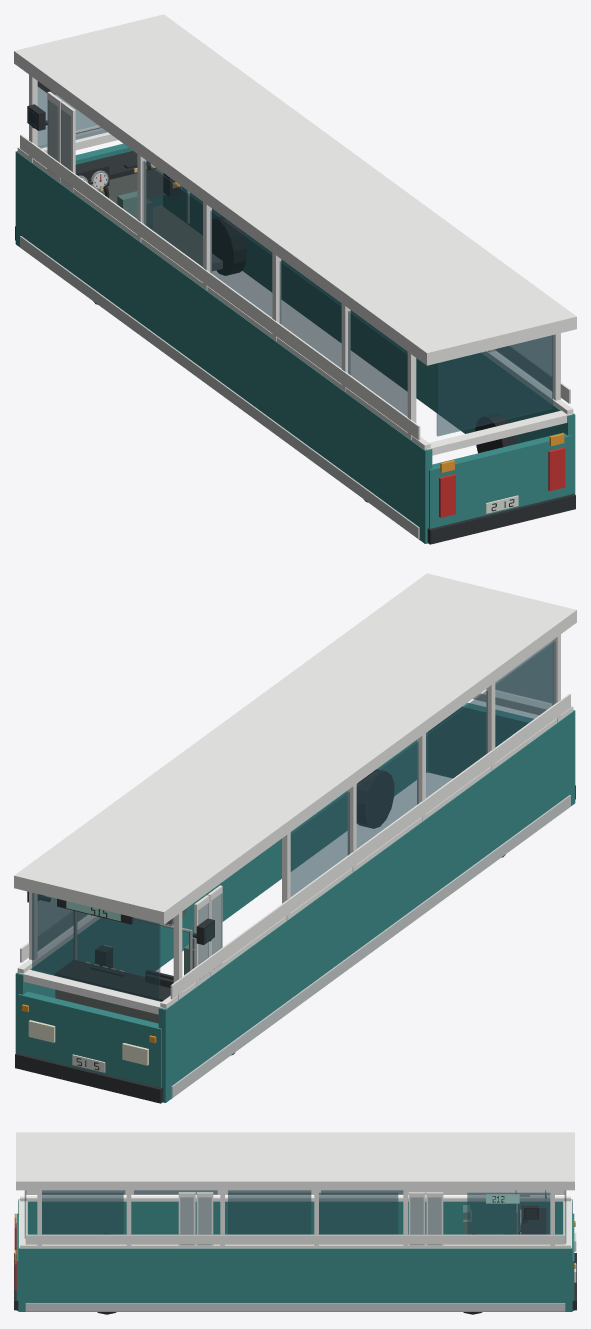
The model's file is bus_almaty_212_turquoise.glb.
3 views of the same model, one above another, from view 1: azimuth 30°, elevation 25°; view 2: azimuth 150°, elevation 25°; view 3: azimuth 270°, elevation 25° (orthographic). The views are drawn at different scales.
Visible parts, largest first — view 1: body_roof, body_lower_left, body_lower_right, window_rear, body_rear_lower, livery_side_window_band_left, livery_side_sill_left, window_side_left_2, window_side_left_1, window_side_left_3, window_side_left_0, bumper_rear (+17 smaller); view 2: body_roof, body_lower_left, body_lower_right, window_windshield, body_front_lower, livery_side_window_band_left, livery_side_sill_left, body_rear_lower, window_side_left_2, window_side_left_1, window_side_left_0, window_side_left_3 (+15 smaller); view 3: body_roof, body_lower_right, body_lower_left, livery_side_window_band_right, livery_side_sill_right, window_side_right_1, window_side_right_0, window_side_right_2, window_side_right_3, belt_left, belt_right, livery_side_window_band_left (+24 smaller).
Boxes of the visible parts, x1,y1,x2,y2 form: body_roof: (14,14,576,365); body_lower_left: (15,151,432,543); body_lower_right: (163,187,575,494); window_rear: (436,335,552,436); body_rear_lower: (428,432,572,544); livery_side_window_band_left: (20,134,420,440); livery_side_sill_left: (20,236,419,538); window_side_left_2: (210,210,272,317); window_side_left_1: (279,261,341,368); window_side_left_3: (142,161,202,266); window_side_left_0: (348,311,407,416); bumper_rear: (427,493,575,544); body_roof: (14,573,576,924); body_lower_left: (158,710,575,1102); body_lower_right: (15,732,427,1053); window_windshield: (32,892,160,1001); body_front_lower: (18,991,162,1103); livery_side_window_band_left: (170,693,570,999); livery_side_sill_left: (171,795,570,1097); body_rear_lower: (428,702,533,778); window_side_left_2: (356,741,418,848); window_side_left_1: (426,690,487,797); window_side_left_0: (495,641,555,747); window_side_left_3: (290,791,349,896); body_roof: (16,1132,574,1190); body_lower_right: (18,1246,572,1311); body_lower_left: (18,1199,572,1234); livery_side_window_band_right: (25,1234,565,1244); livery_side_sill_right: (25,1303,565,1311); window_side_right_1: (228,1192,311,1234); window_side_right_0: (42,1192,123,1234); window_side_right_2: (319,1192,398,1234); window_side_right_3: (467,1192,550,1234); belt_left: (20,1196,570,1201); belt_right: (20,1243,570,1248); livery_side_window_band_left: (26,1190,564,1194).
Bounding box in the file's own units: 2.97 × 3.18 × 12.
